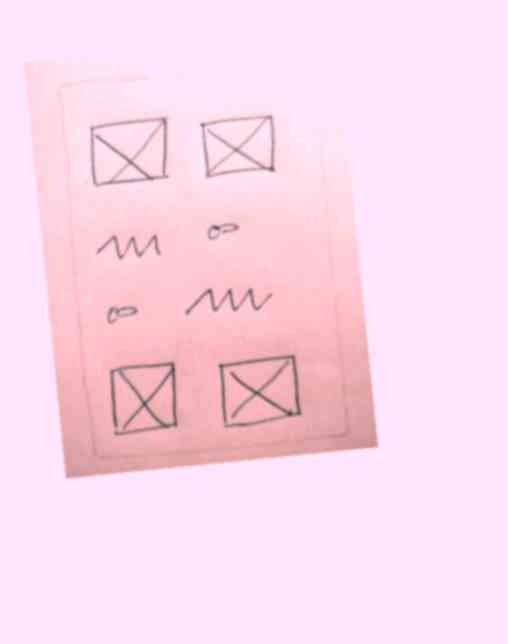image: (209, 346, 308, 433), (80, 109, 182, 192), (193, 106, 287, 187), (101, 356, 188, 442)
switch: (193, 213, 252, 247), (96, 298, 154, 331)
text: (178, 274, 283, 326), (87, 224, 171, 273)
